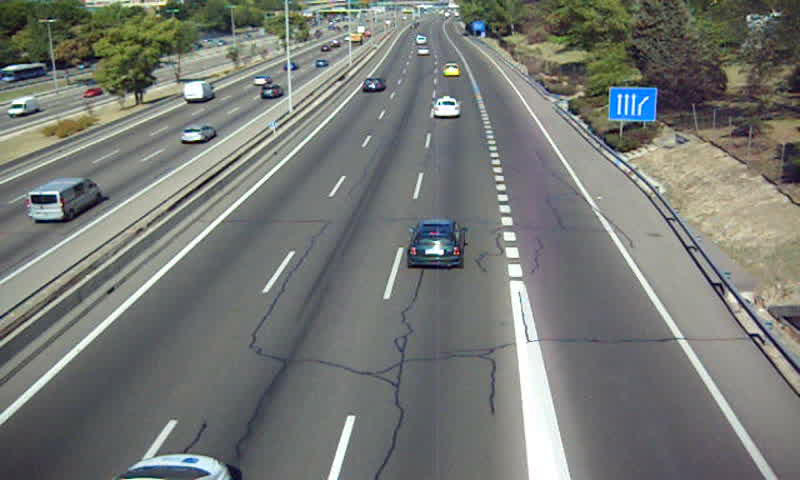car: (407, 220, 462, 268), (432, 96, 463, 119), (360, 78, 386, 93), (416, 46, 431, 58)
